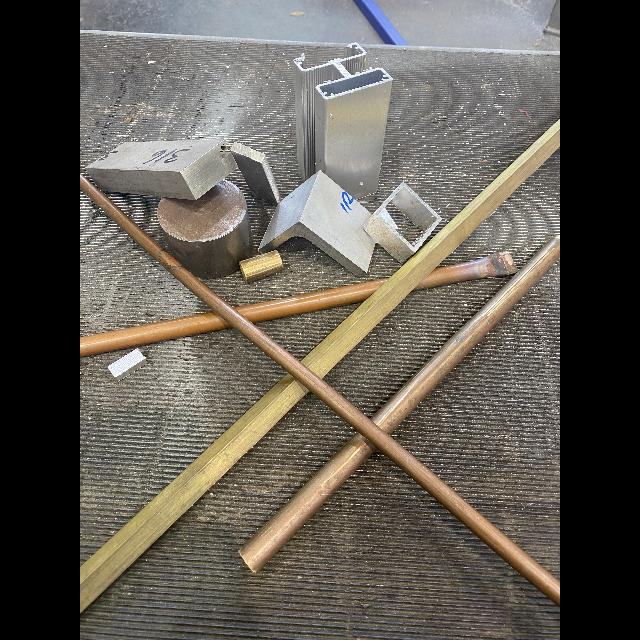Aluminium: (293, 42, 393, 199), (258, 170, 376, 277), (362, 181, 442, 263), (231, 141, 281, 203), (108, 348, 146, 380)
Brass: (302, 122, 560, 378), (82, 374, 308, 608), (372, 236, 560, 434), (240, 435, 373, 572), (239, 250, 283, 282)
Copper: (80, 173, 560, 606), (234, 278, 390, 322), (80, 312, 231, 357), (412, 251, 518, 291)
Ferrous Metal: (157, 179, 253, 279)
Stainless Steel: (86, 140, 237, 200)
